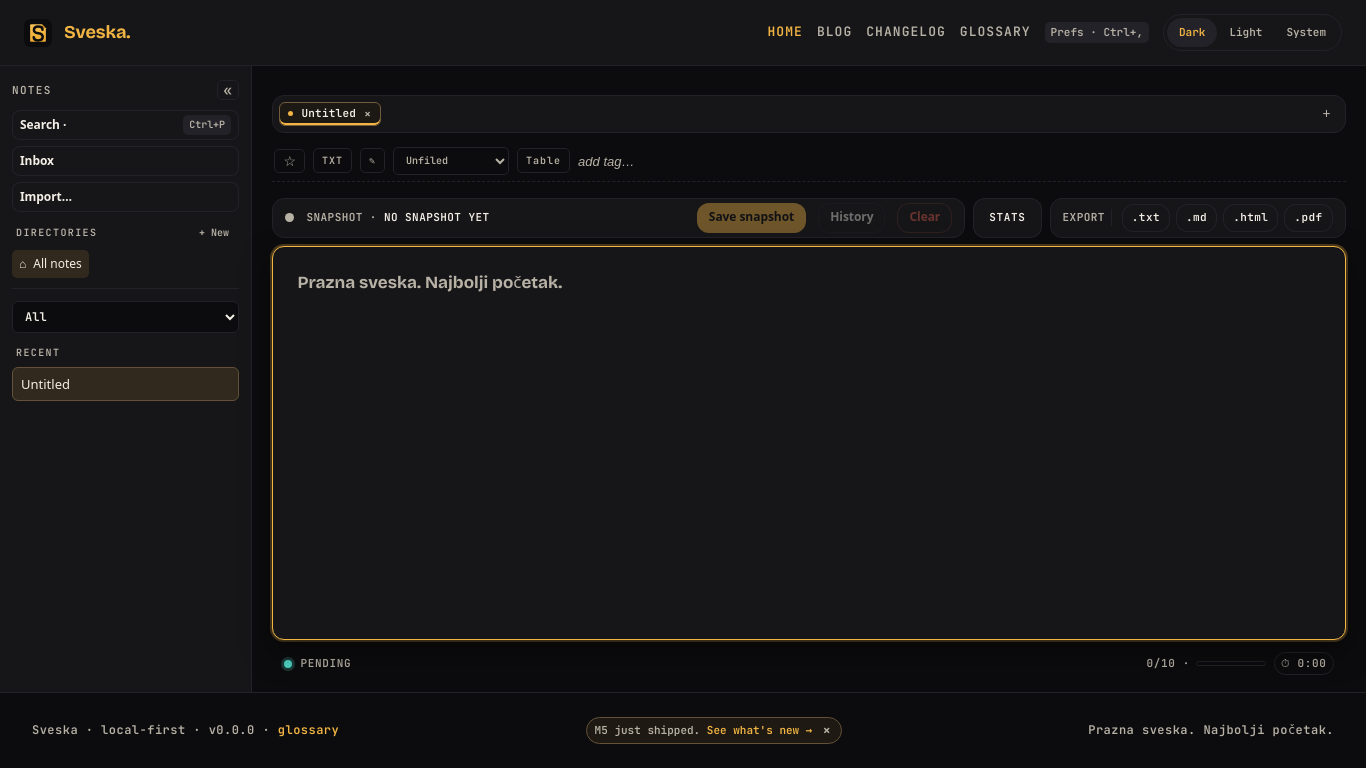
Test: M3.T3.6 — Word goal progress bar › shows current/goal once a goal is set
The width and height of the screenshot is (1366, 768).
Step 1. Type "one two three" into the text box with test id "editor-textarea" → (809, 443), box [272, 246, 1346, 640]
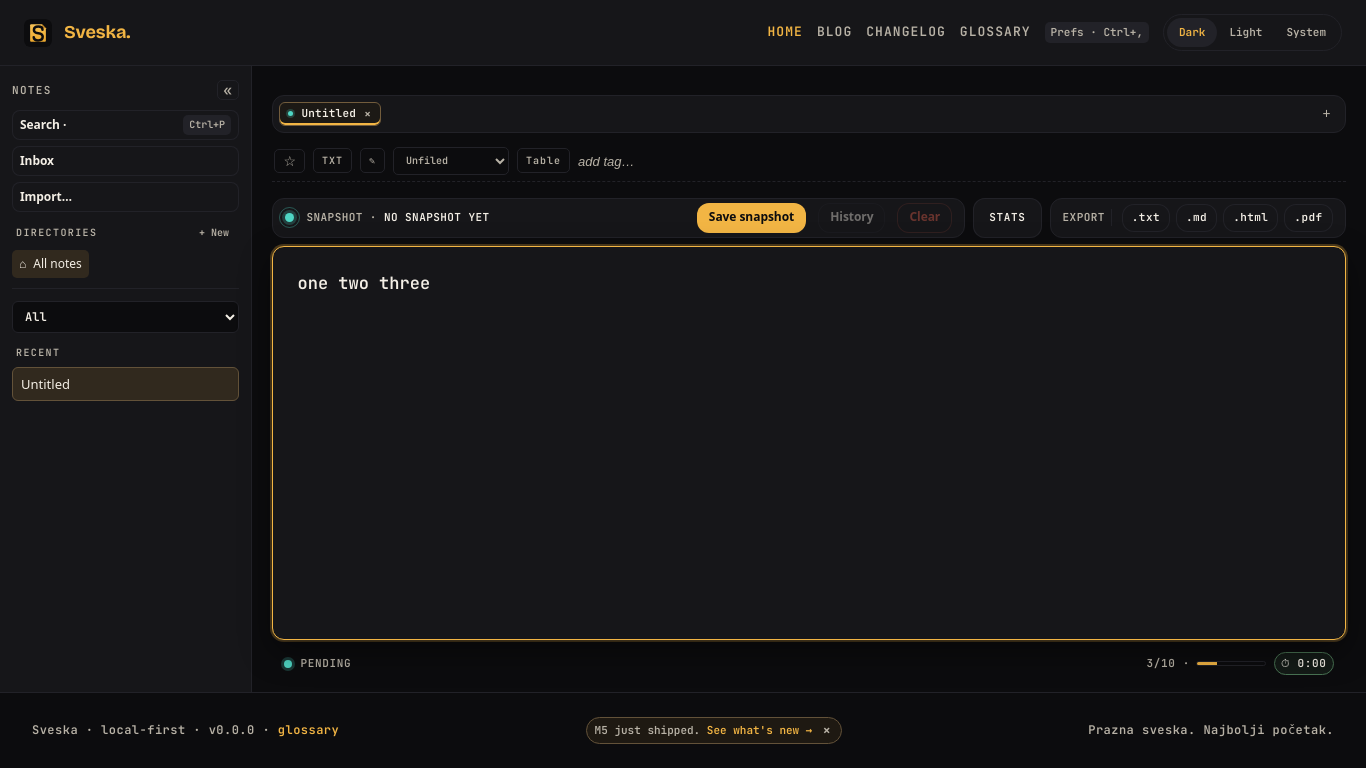
Expected: the element with test id "word-goal" shows "3/10", [1146, 655, 1266, 672]
